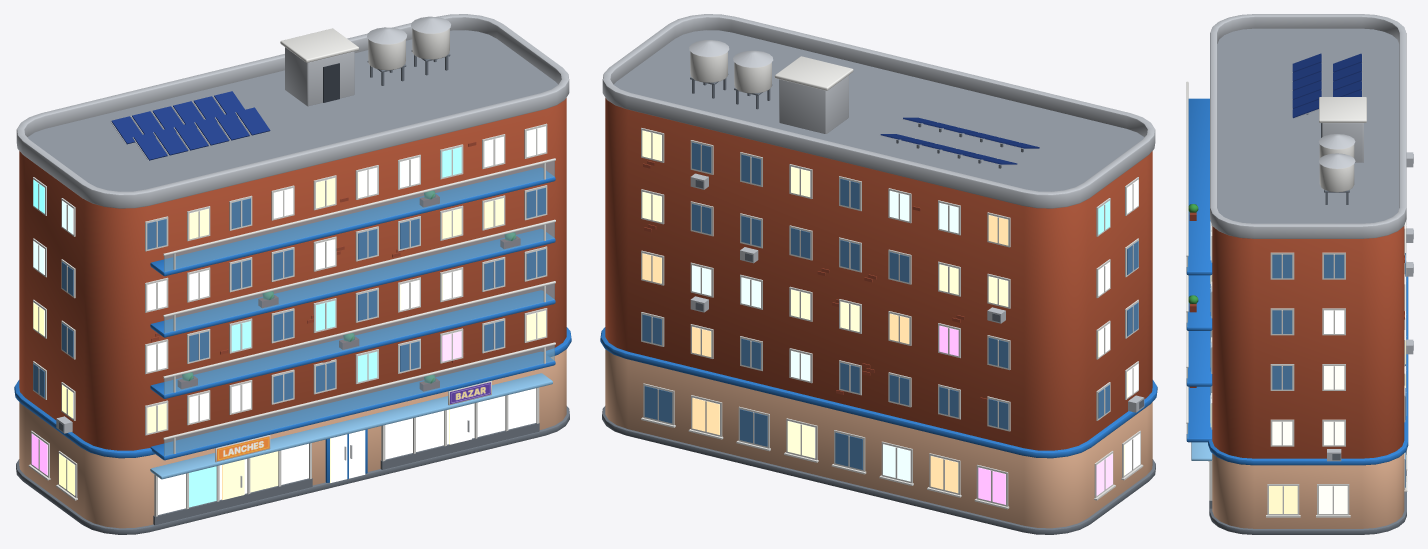
Rendered from predio_tijolo_comprido.glb.
3 views of the same model, side by side, from view 1: azimuth 30°, elevation 25°; view 2: azimuth 150°, elevation 25°; view 3: azimuth 270°, elevation 25° (orthographic). The views are drawn at different scales.
Visible parts, largest first — view 1: predio_tijolo_comprido; view 2: predio_tijolo_comprido; view 3: predio_tijolo_comprido.
Boxes of the visible parts, x1,y1,x2,y2 form: predio_tijolo_comprido: (14,14,571,534); predio_tijolo_comprido: (600,14,1157,534); predio_tijolo_comprido: (1186,14,1413,534).
Bounding box in the file's own units: 26.99 × 19.65 × 11.85.
9 materials, 2 textured.
